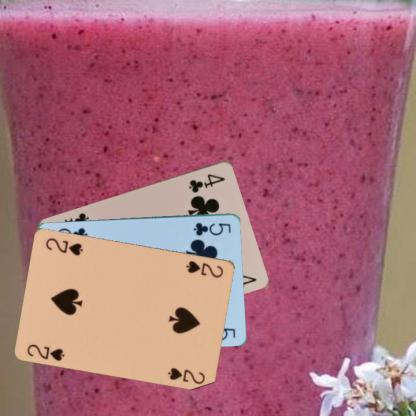2s: (183, 258, 225, 279), (25, 342, 66, 362)
4c: (186, 171, 227, 194)
5c: (191, 219, 232, 237)
